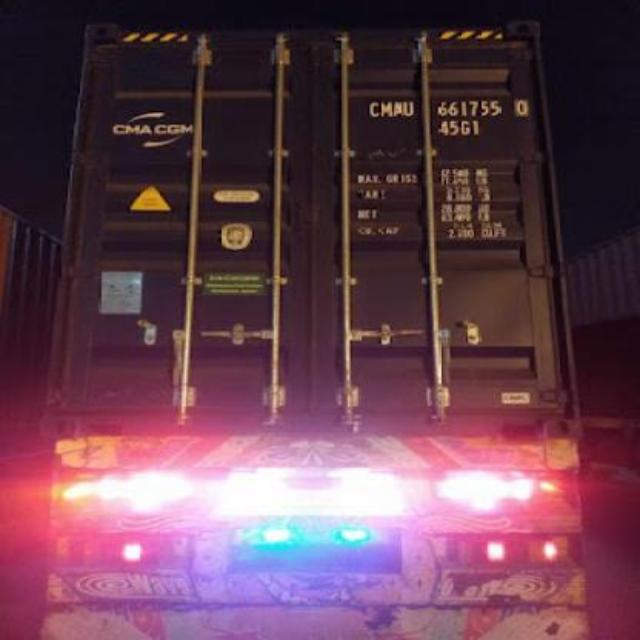0: (515, 100, 529, 118)
1: (460, 100, 468, 116)
5: (491, 100, 502, 118), (480, 100, 490, 118)
6: (448, 100, 458, 118), (437, 100, 447, 116)
7: (468, 100, 478, 118)
A: (392, 100, 404, 120)
C: (368, 102, 379, 118)
M: (381, 100, 394, 120)
U: (403, 100, 415, 118)
